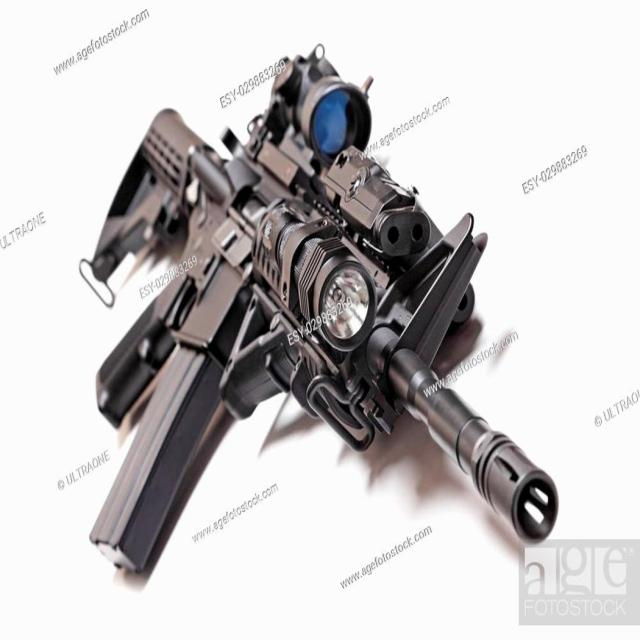Rifle: (90, 47, 560, 578)
